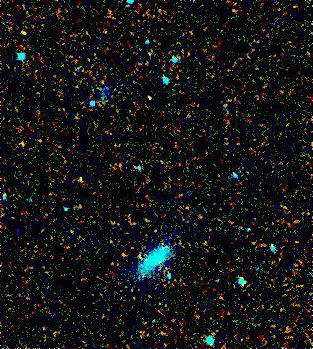star: (133, 84, 163, 114)
